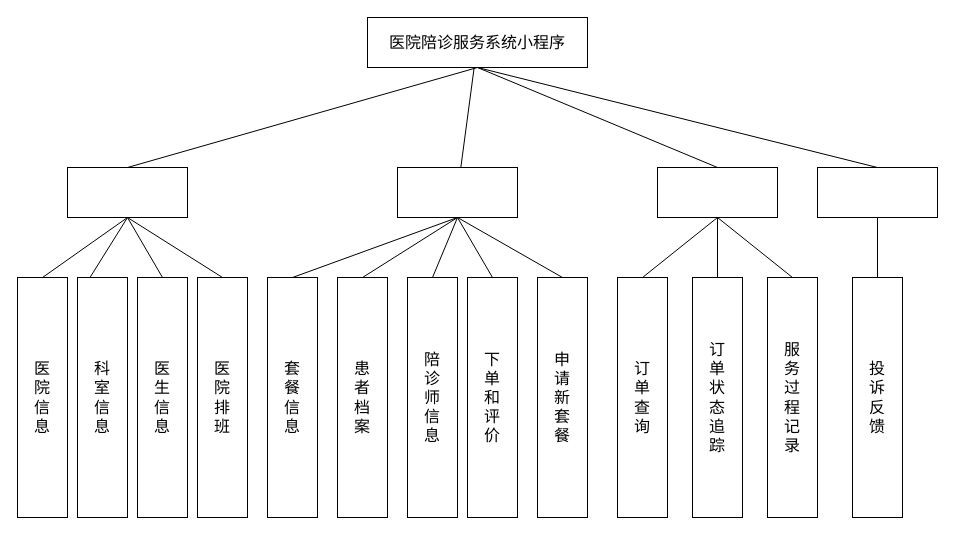
Image size: 955x535. Some labels were removed from this diagram. Here are the shapes that lost their labels. From the top down, the centre of each, then its label:
(x=127, y=192): 医院信息
(x=457, y=192): 陪诊服务
(x=717, y=192): 订单中心
(x=877, y=192): 投诉反馈
